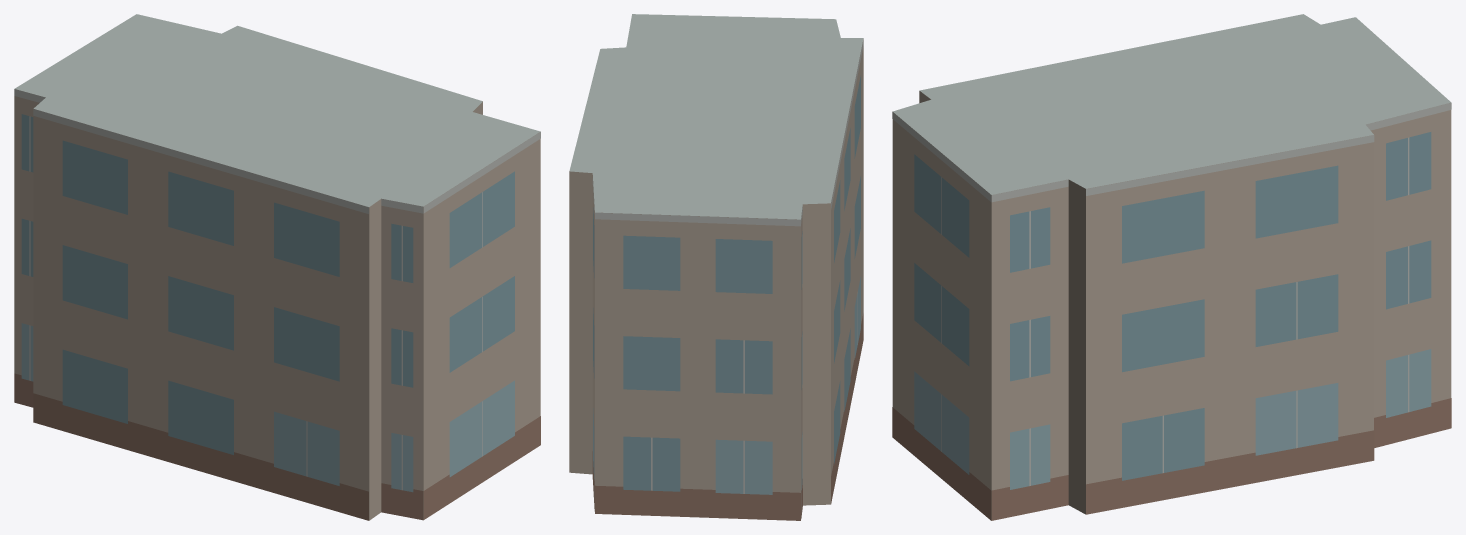
The model's file is survey-upis-32727441.glb.
3 views of the same model, side by side, from view 1: azimuth 30°, elevation 25°; view 2: azimuth 150°, elevation 25°; view 3: azimuth 270°, elevation 25° (orthographic). The views are drawn at different scales.
Parts seen in each view (by area): view 1: survey-upis-32727441.tmp; view 2: survey-upis-32727441.tmp; view 3: survey-upis-32727441.tmp.
Part boxes in pixels (x1,y1,x2,y2): survey-upis-32727441.tmp: (14,14,540,520); survey-upis-32727441.tmp: (569,14,863,520); survey-upis-32727441.tmp: (892,14,1451,520).
Bounding box in the file's own units: 12.94 × 10.85 × 16.88.
